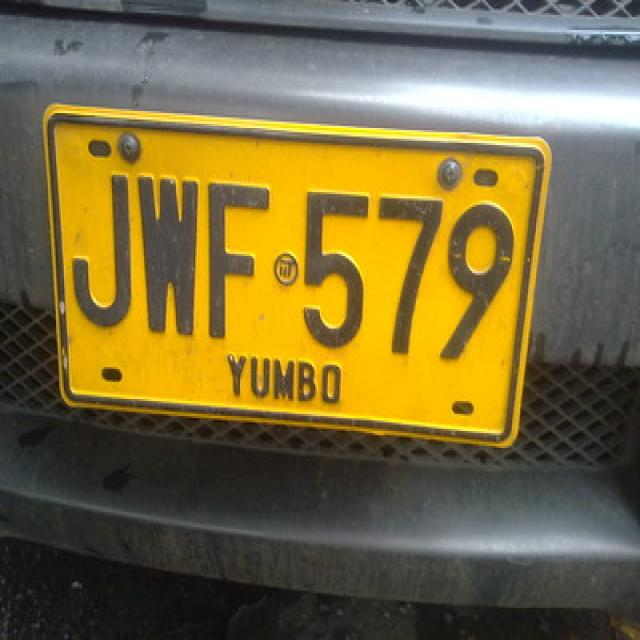placa_carro: (42, 101, 547, 459)
